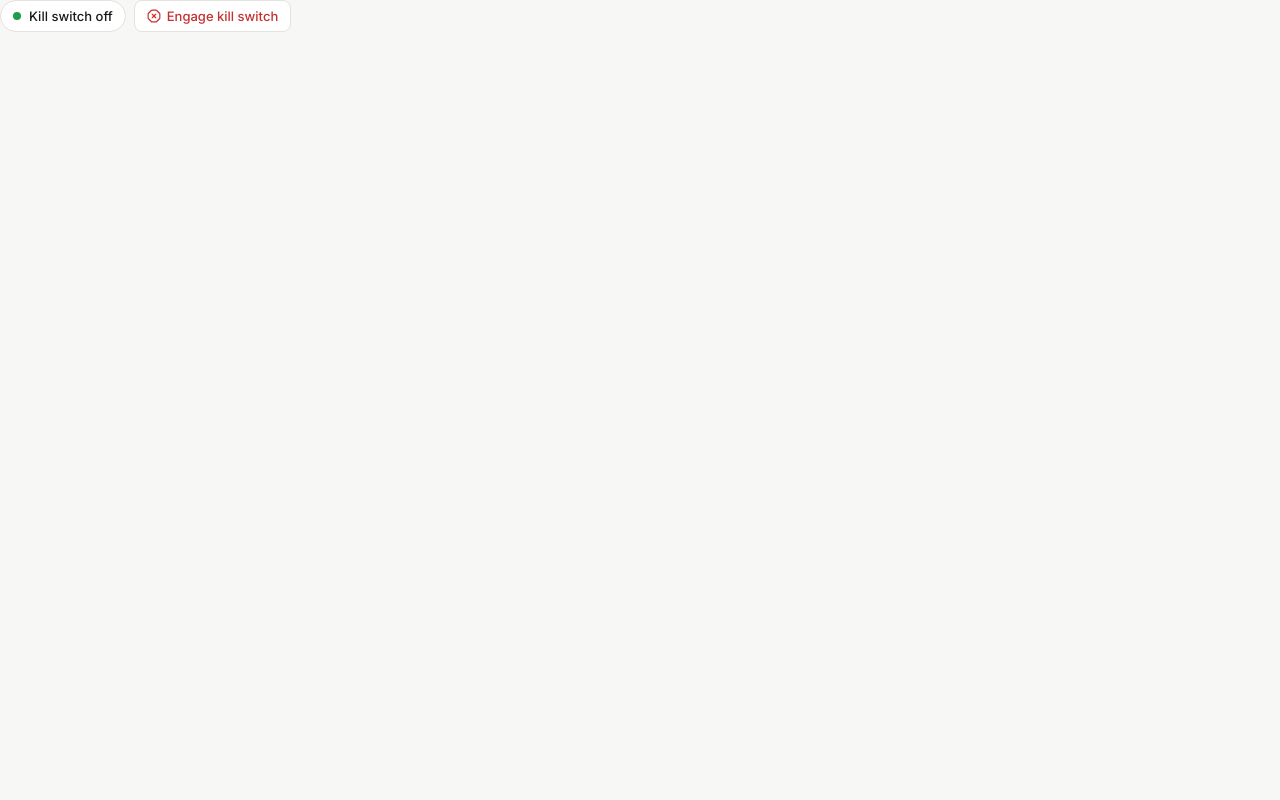
Test case: KillSwitchControl › shows the state and keeps the engage button disabled until the phrase is typed
Expected: the text "Kill switch off" is shown, [0,0,126,32]
Click the button "Engage kill switch" at (213, 16), box [134,0,291,32]
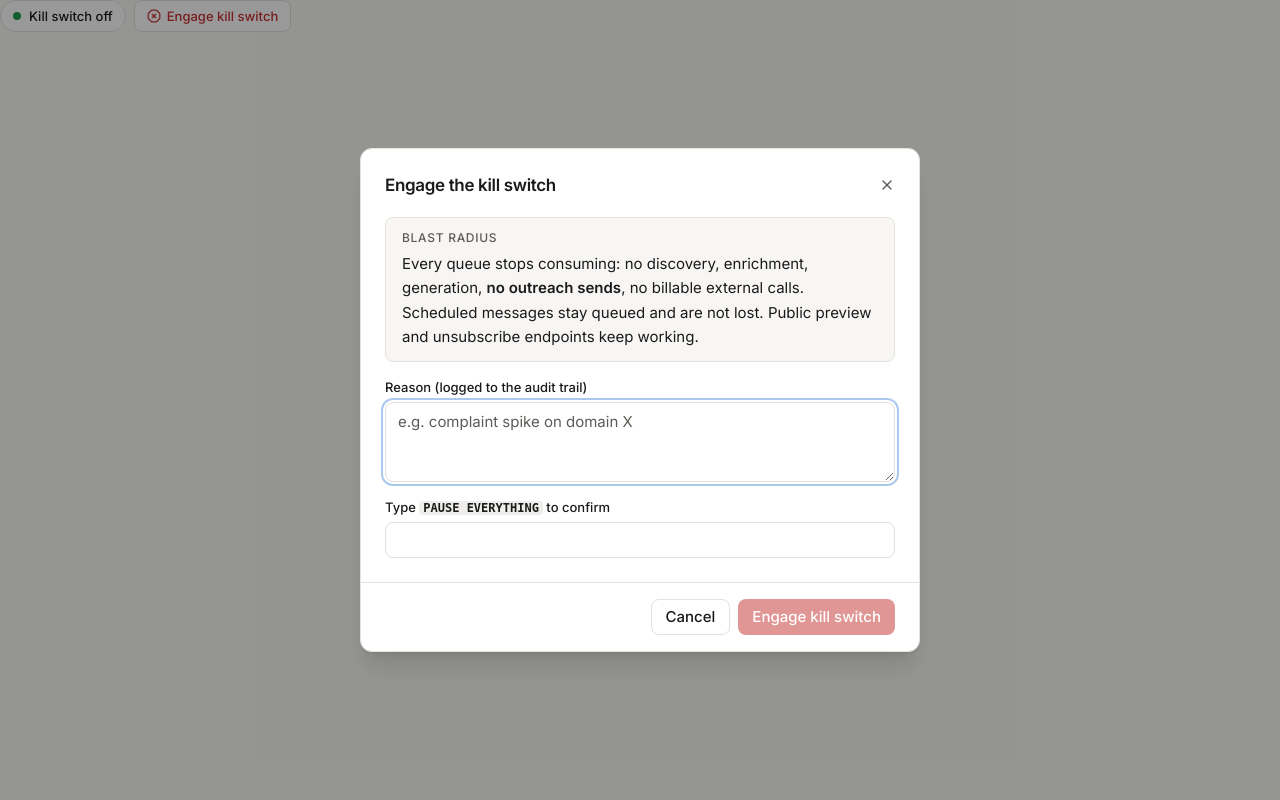
Expected: the button "Engage kill switch" is disabled, [738,599,895,635]
Type "pause everything" into the field labelled "Type PAUSE EVERYTHING to confirm" at (640, 540), box [385,522,895,558]
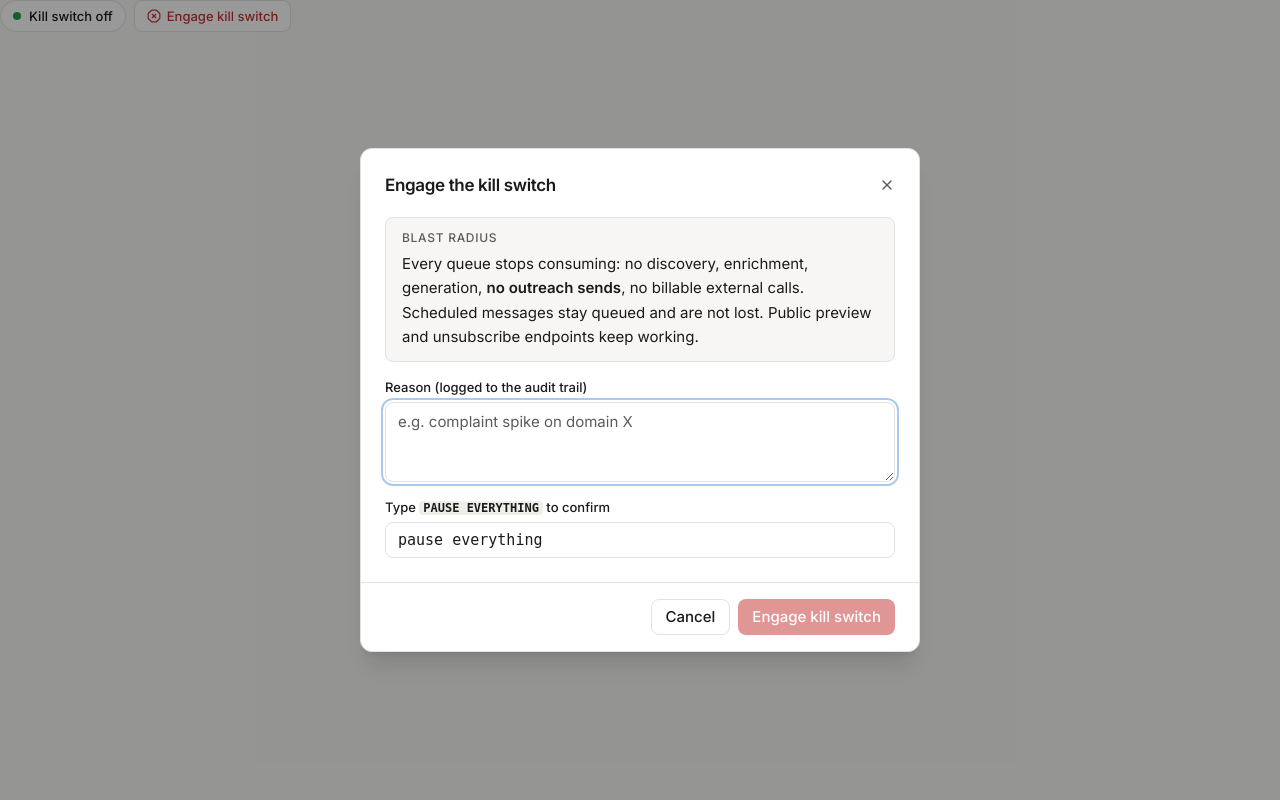
Expected: the button "Engage kill switch" is disabled, [738,599,895,635]
Replace the text in the field labelled "Type PAUSE EVERYTHING to confirm" with "PAUSE EVERYTHING" at (640, 540), box [385,522,895,558]
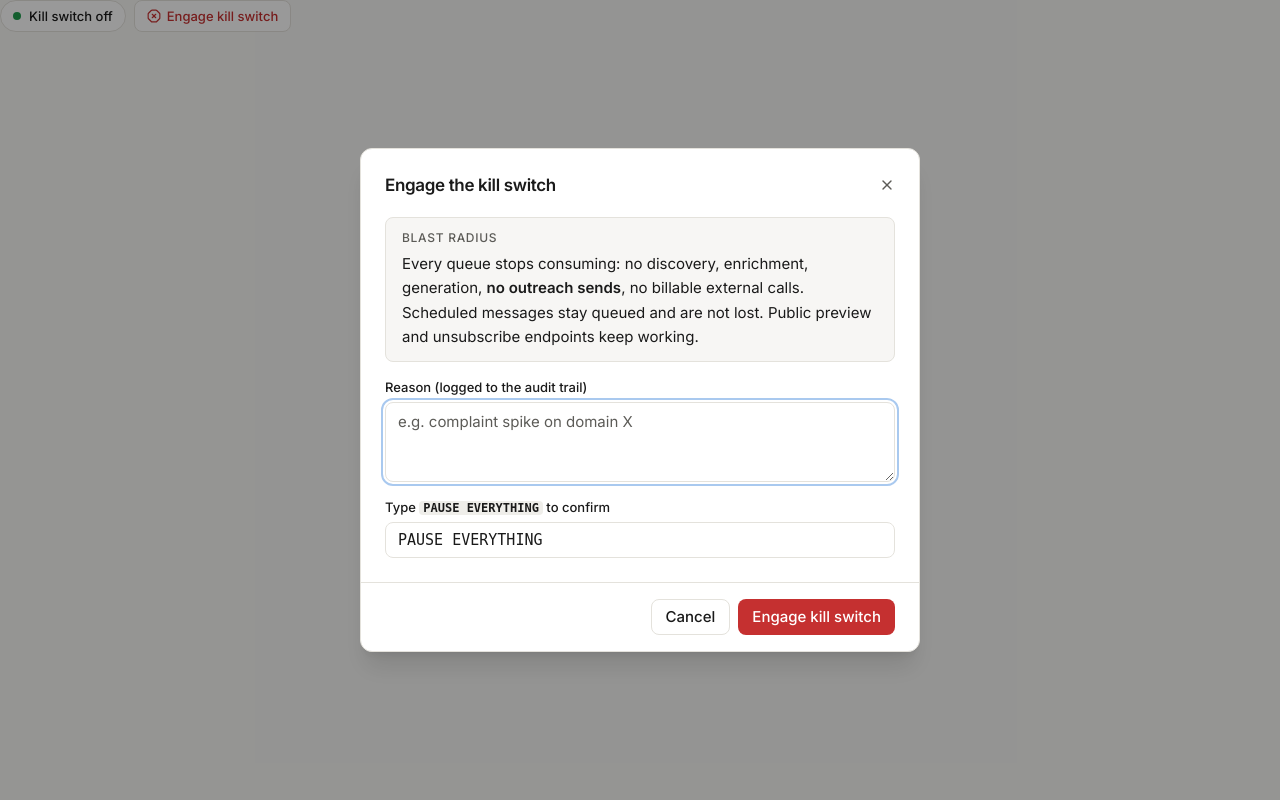
Expected: the button "Engage kill switch" is enabled, [738,599,895,635]
